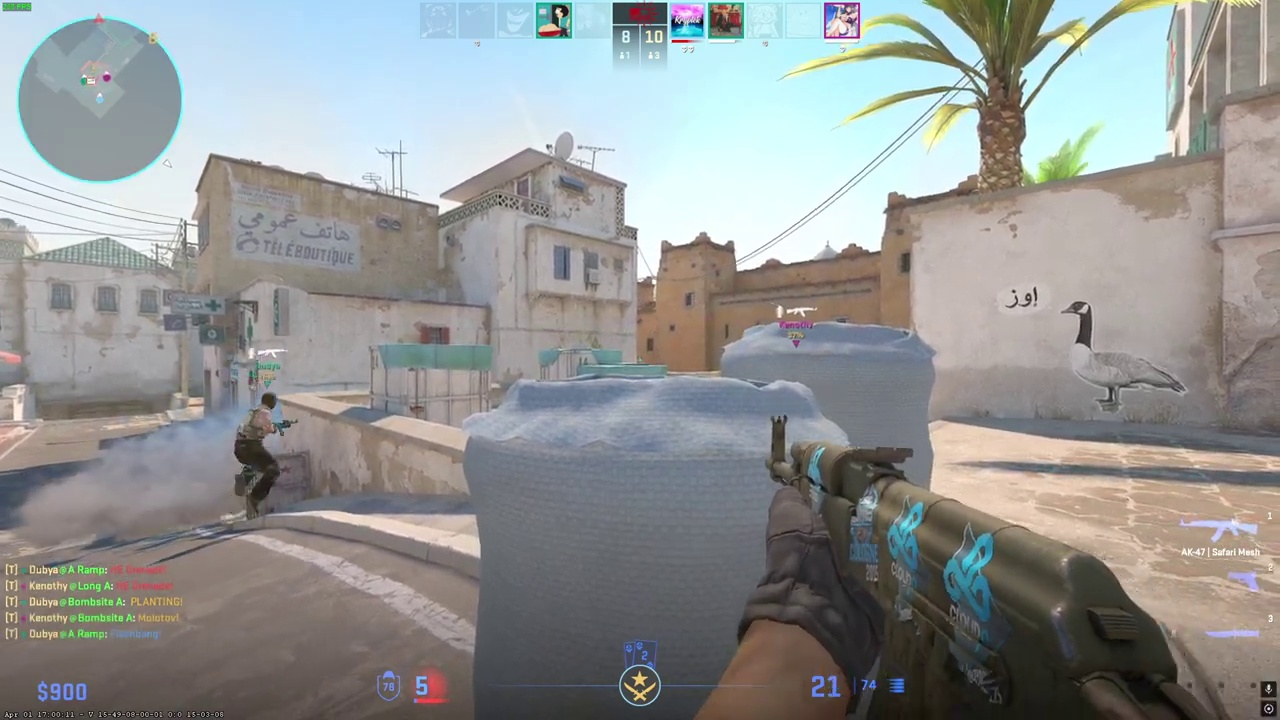Terrorist: (235, 392, 285, 513)
